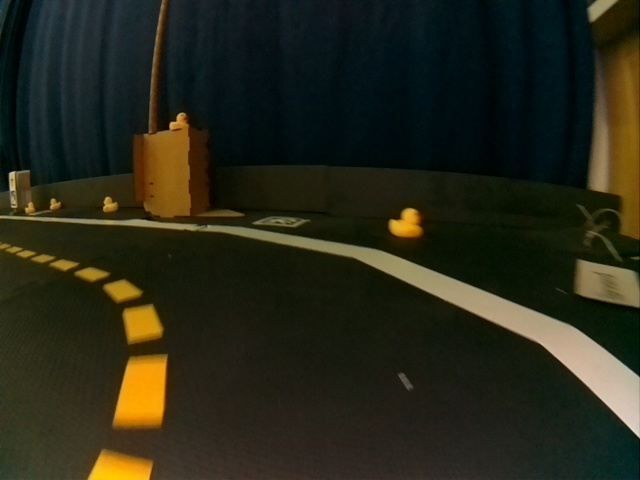Duckie: (389, 209, 424, 236), (170, 113, 186, 130), (102, 197, 117, 211), (50, 199, 61, 210), (25, 203, 35, 212)
QR code: (257, 215, 308, 228)
